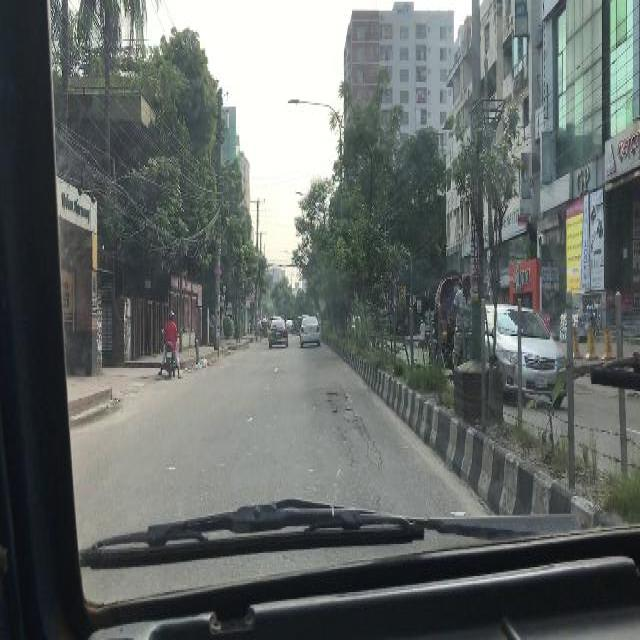bike: (162, 327, 182, 379)
vehicle: (485, 306, 569, 400), (430, 269, 466, 374), (301, 318, 322, 345), (269, 317, 288, 346), (285, 320, 293, 334)
